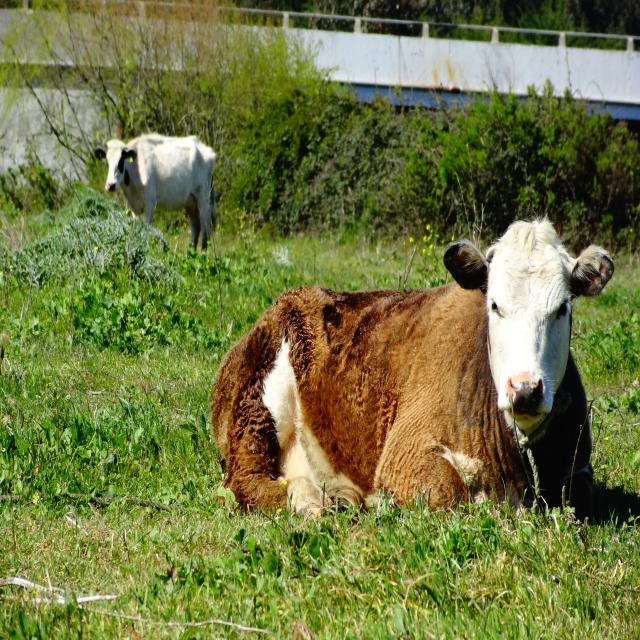cow: (211, 218, 614, 518), (95, 133, 216, 250)
